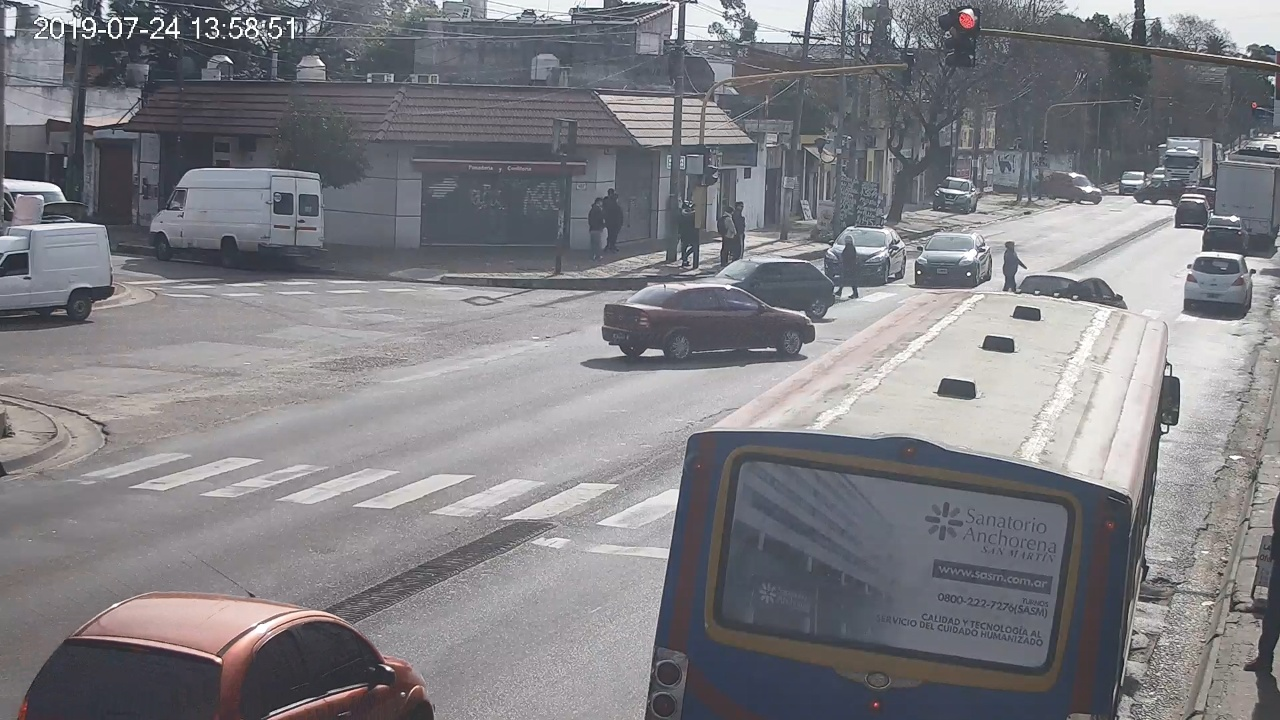bus: (642, 289, 1181, 720)
car: (17, 595, 433, 720), (1184, 251, 1257, 311)
traffic light: (956, 4, 978, 67)
